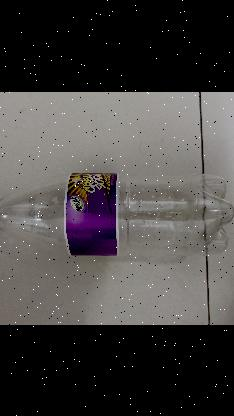Plastic Bottle: (0, 171, 233, 259)
